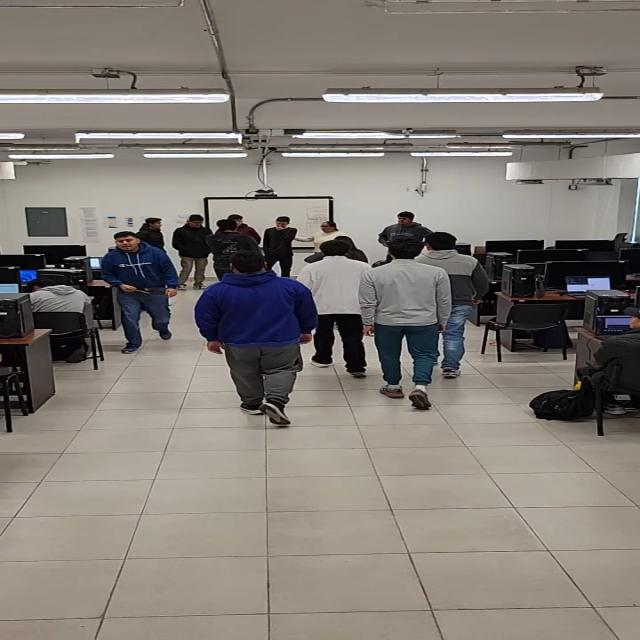Persona: (216, 252, 308, 404), (106, 230, 178, 335), (429, 227, 486, 357), (379, 241, 429, 386), (311, 243, 368, 367), (177, 212, 205, 291), (379, 210, 427, 240), (214, 218, 254, 252), (268, 215, 296, 258), (137, 216, 172, 245), (313, 220, 347, 240)
